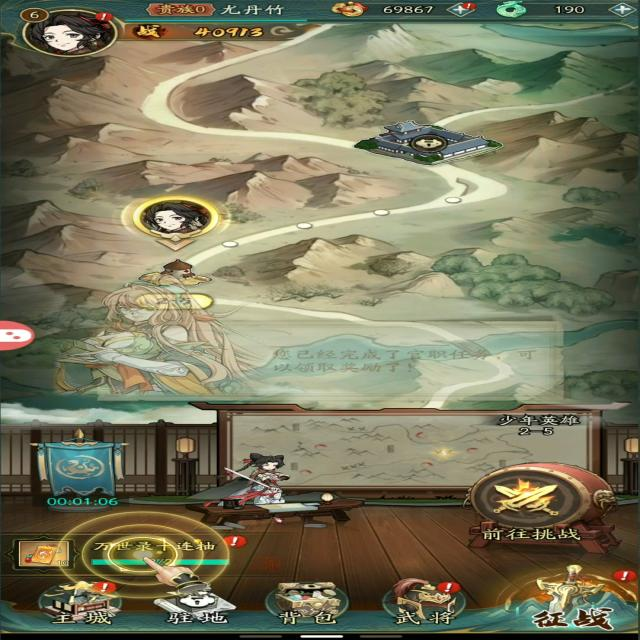hint-guide: (109, 537, 180, 576)
hint-reddot: (209, 534, 263, 549), (88, 580, 121, 596), (431, 578, 462, 595), (611, 568, 634, 584), (86, 9, 114, 21), (458, 2, 472, 10)
navigation-bag: (264, 573, 354, 627)
navigation-fight: (519, 567, 640, 639)
navigation-hero: (376, 569, 475, 631)
navigation-main: (26, 573, 132, 630)
navigation-role: (16, 6, 134, 68)
navigation-station-off: (147, 573, 240, 628)
operation-TaskCollection: (6, 530, 267, 579)
operation-Vip: (141, 2, 222, 20)
operation-challenge: (447, 456, 608, 544)
operation-quickFight: (28, 431, 124, 521)
